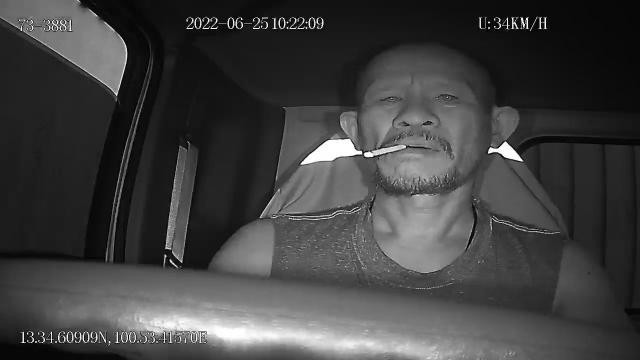SafeDriving: (368, 85, 411, 114), (428, 83, 468, 111)
Smoking: (363, 144, 405, 158)
